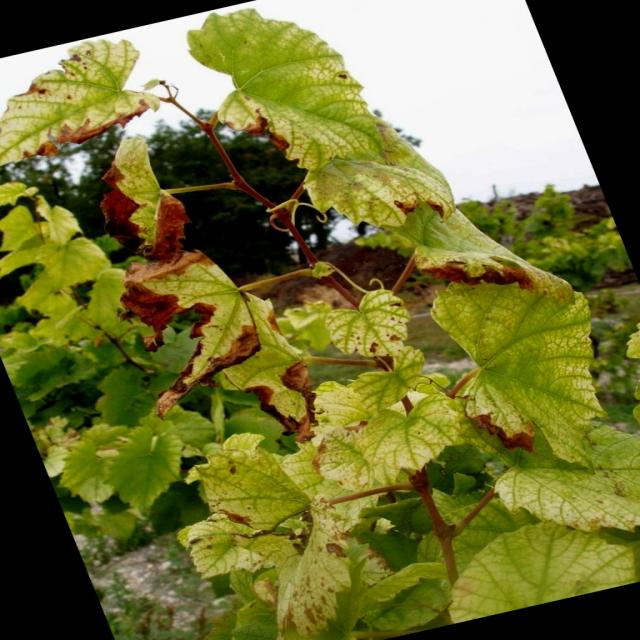Chlorosis: (2, 38, 557, 632)
